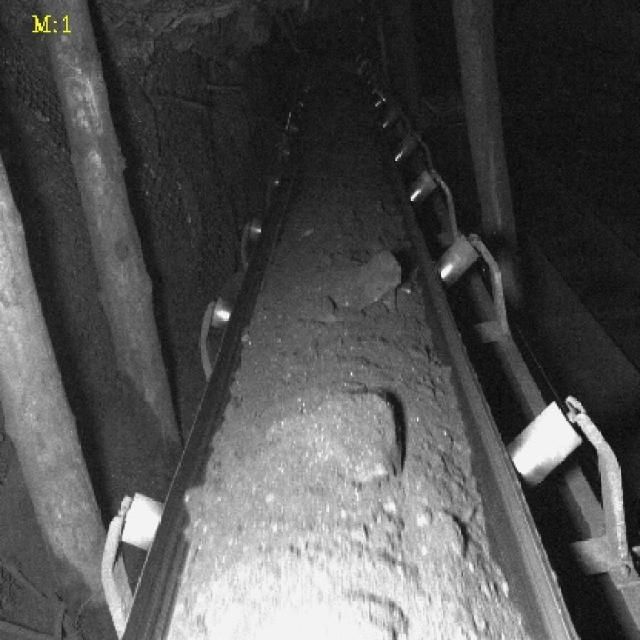large_sized_coal: (268, 396, 395, 484), (328, 252, 400, 314)
